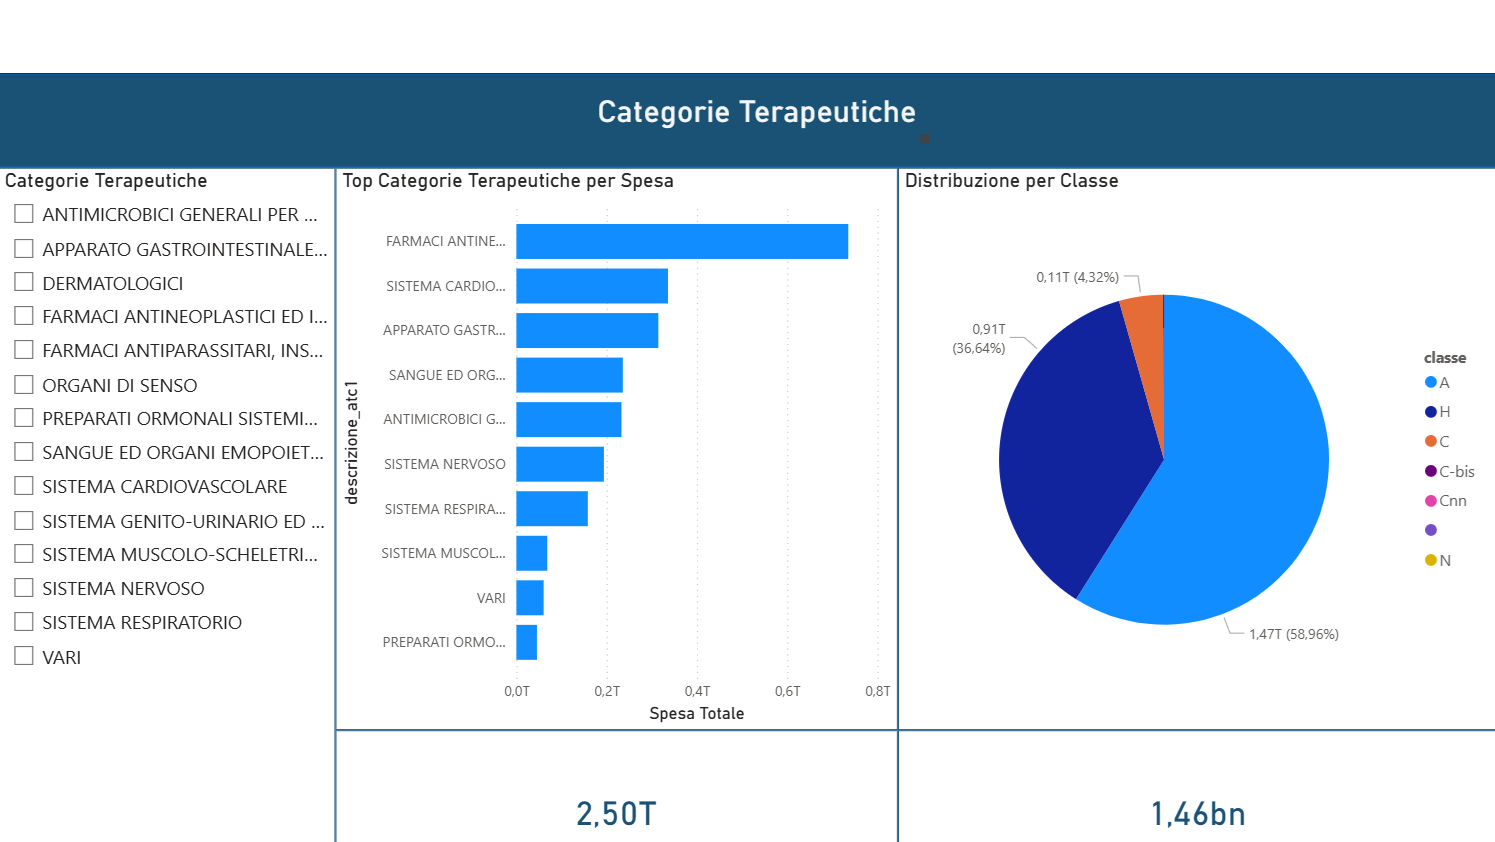

The dashboard page shown, as its layout file describes it:
{"tool":"powerbi","page":{"name":"Categorie Terapeutiche","canvas":[1280,720],"ordinal":2},"visuals":[{"type":"clusteredBarChart","title":"Top Categorie Terapeutiche per Spesa","fields":{"Y":["dati2024_04 12 2025.Spesa Totale"],"Category":["dati2024_04 12 2025.descrizione_atc1","dati2024_04 12 2025.descrizione_atc2"]},"box":[288,80,480,480],"z":0},{"type":"pieChart","title":"Distribuzione per Classe","fields":{"Category":["dati2024_04 12 2025.classe"],"Y":["dati2024_04 12 2025.Spesa Totale"]},"box":[768,80,512,480],"z":1000},{"type":"slicer","title":"Categorie Terapeutiche","fields":{"Values":["dati2024_04 12 2025.descrizione_atc1"]},"box":[0,80,288,640],"z":2000},{"type":"card","fields":{"Values":["dati2024_04 12 2025.Confezioni Totali"]},"box":[768,560,512,160],"z":3000},{"type":"card","fields":{"Values":["dati2024_04 12 2025.Spesa Totale"]},"box":[288,560,480,160],"z":4000},{"type":"shape","box":[0,0,1280,80],"z":5000},{"type":"textbox","title":"Categorie Terapeutiche","box":[496,16,304,48],"z":5001}]}

Visuals, with their boxes in screenshot pixels (x1, y1, x2, y2), scaled from the page's 1280x720 canvas onto the 1495x842 screenshot:
"Top Categorie Terapeutiche per Spesa" clusteredBarChart: <bbox>336, 94, 897, 655</bbox>
"Distribuzione per Classe" pieChart: <bbox>897, 94, 1494, 655</bbox>
"Categorie Terapeutiche" slicer: <bbox>0, 94, 336, 841</bbox>
card - dati2024_04 12 2025.Confezioni Totali: <bbox>897, 655, 1494, 841</bbox>
card - dati2024_04 12 2025.Spesa Totale: <bbox>336, 655, 897, 841</bbox>
shape: <bbox>0, 0, 1494, 94</bbox>
"Categorie Terapeutiche" textbox: <bbox>579, 19, 934, 75</bbox>
